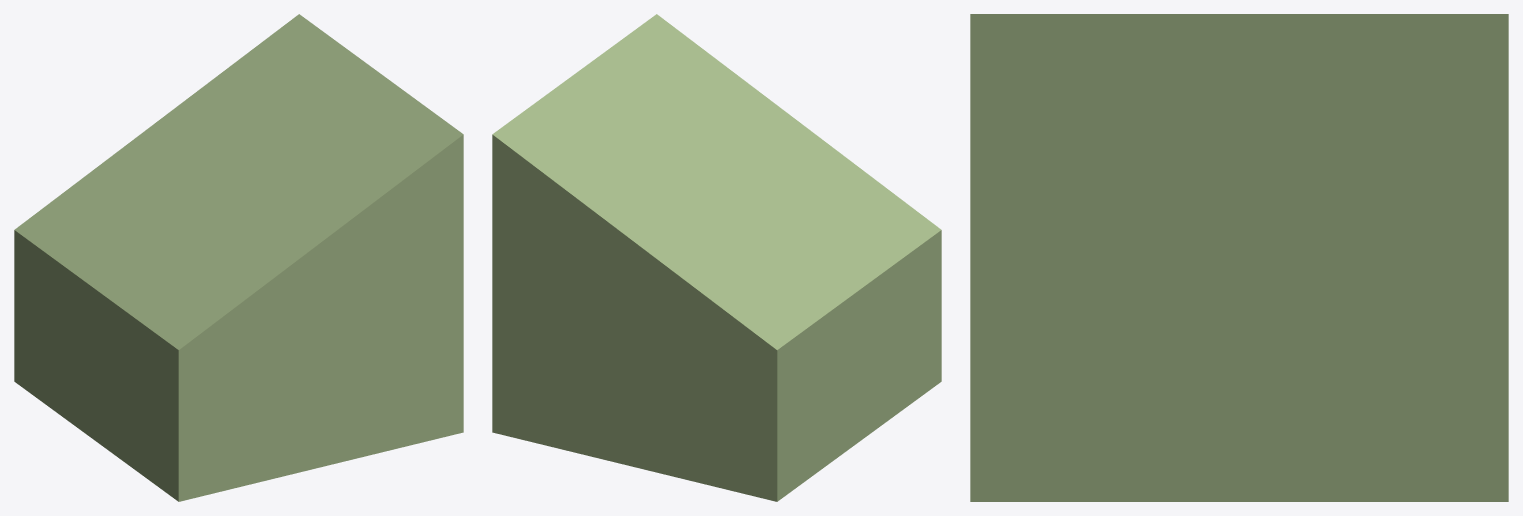
File: GrassTopSlope_TempBase.fbx
The picture shows the model from 3 angles, left to right: view 1: azimuth 30°, elevation 25°; view 2: azimuth 150°, elevation 25°; view 3: azimuth 270°, elevation 25°; orthographic projection. The views are drawn at different scales.
Parts seen in each view (by area): view 1: GrassTopSlope_TempBase; view 2: GrassTopSlope_TempBase; view 3: GrassTopSlope_TempBase.
Part boxes in pixels (x1,y1,x2,y2): GrassTopSlope_TempBase: (14,14,463,501); GrassTopSlope_TempBase: (492,14,941,501); GrassTopSlope_TempBase: (970,14,1508,501).
Bounding box in the file's own units: 1 × 1 × 1.
